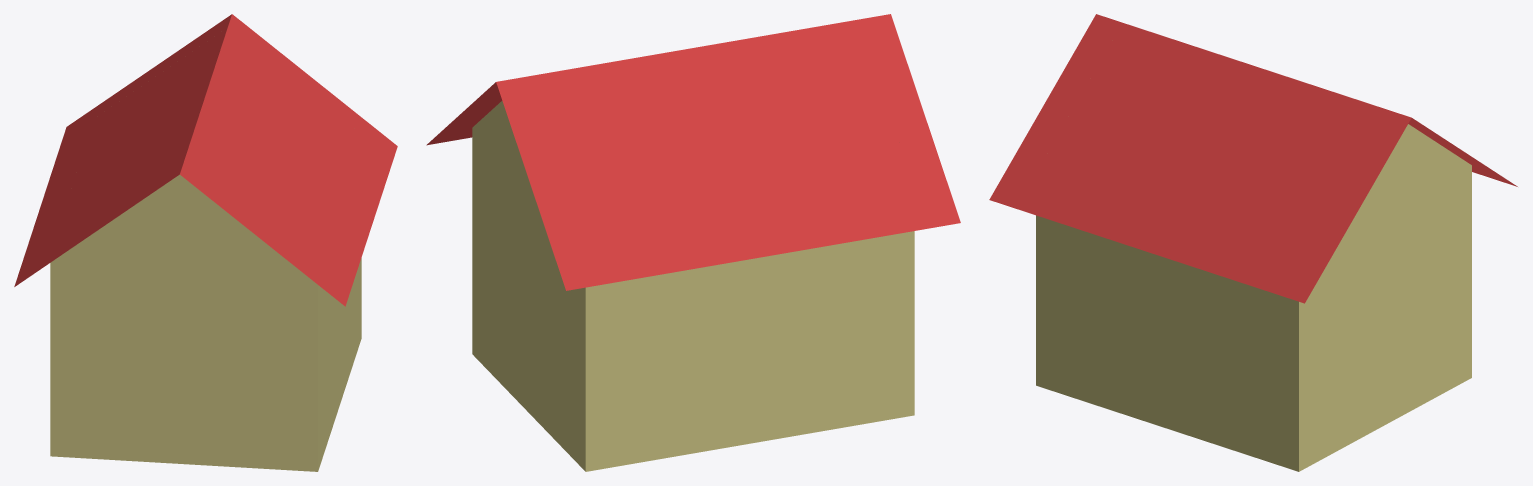
3 views of the same model, side by side, from view 1: azimuth 30°, elevation 25°; view 2: azimuth 150°, elevation 25°; view 3: azimuth 270°, elevation 25° (orthographic). The views are drawn at different scales.
Visible parts, largest first — view 1: group_5, group_3, group_4; view 2: group_5, group_3, group_4; view 3: group_5, group_3, group_4.
Part boxes in pixels (left/top/right/bottom): group_5: left=50, top=174, right=361, bottom=471; group_3: left=50, top=14, right=361, bottom=306; group_4: left=14, top=14, right=397, bottom=306; group_5: left=472, top=101, right=914, bottom=471; group_3: left=426, top=14, right=914, bottom=290; group_4: left=486, top=15, right=960, bottom=290; group_5: left=1036, top=124, right=1471, bottom=471; group_3: left=1036, top=23, right=1517, bottom=302; group_4: left=989, top=14, right=1410, bottom=303.
Size of the model in its own units: 15.57 by 15.84 by 10.43.
